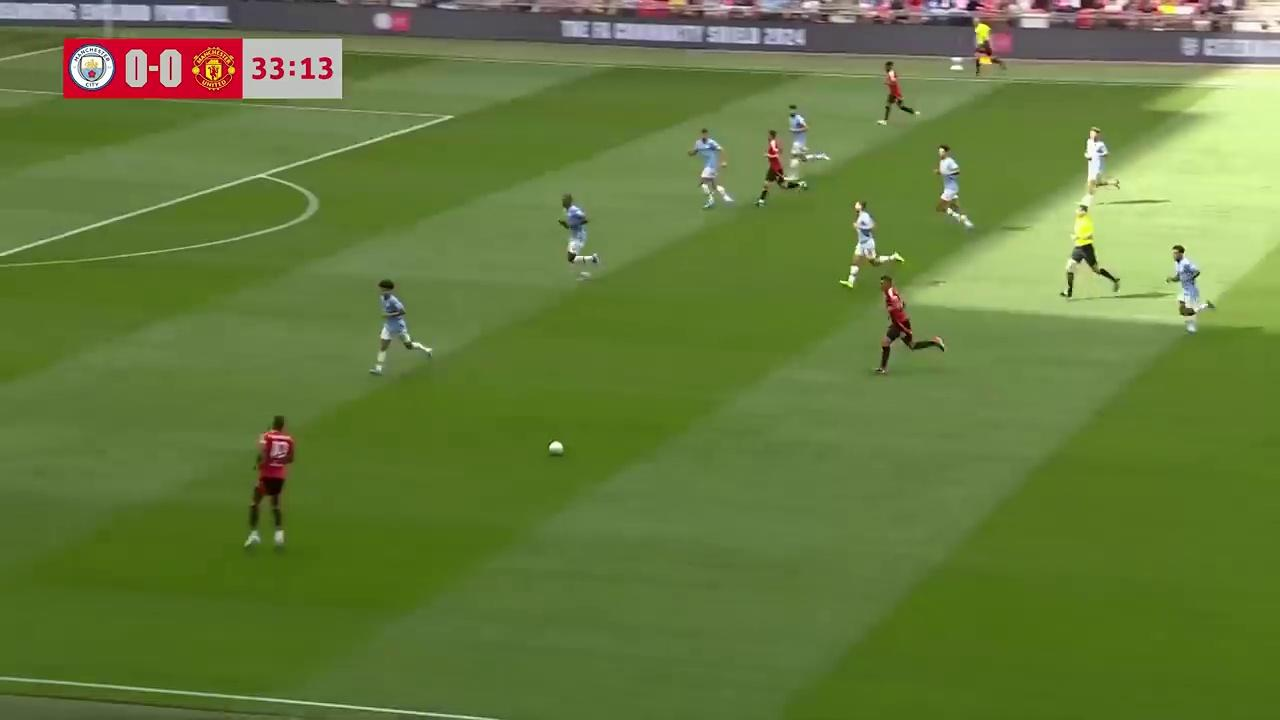ball: (546, 437, 566, 456)
player: (243, 415, 295, 552), (368, 279, 432, 376), (872, 272, 932, 375), (1167, 245, 1216, 334), (687, 127, 734, 210), (755, 130, 803, 207), (840, 199, 881, 288), (933, 144, 973, 231), (558, 193, 601, 270), (1083, 126, 1120, 205), (876, 60, 919, 125), (787, 104, 810, 176)
referee: (1060, 201, 1120, 301), (971, 16, 996, 78)
